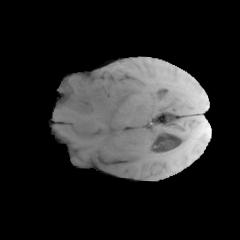glioma: (54, 71, 142, 133)
